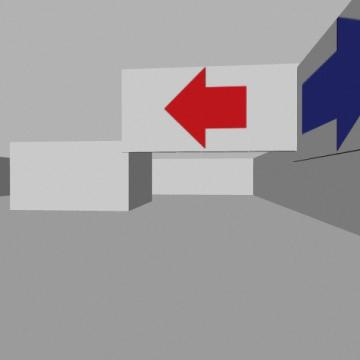blue_right: (302, 17, 359, 150)
red_left: (165, 68, 246, 148)
